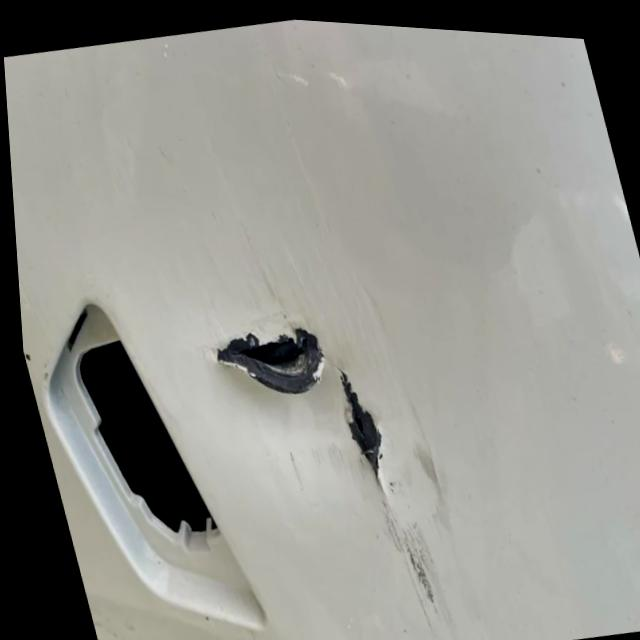Crack: (208, 309, 332, 397), (335, 363, 388, 495)
Scratch: (375, 449, 456, 636)
